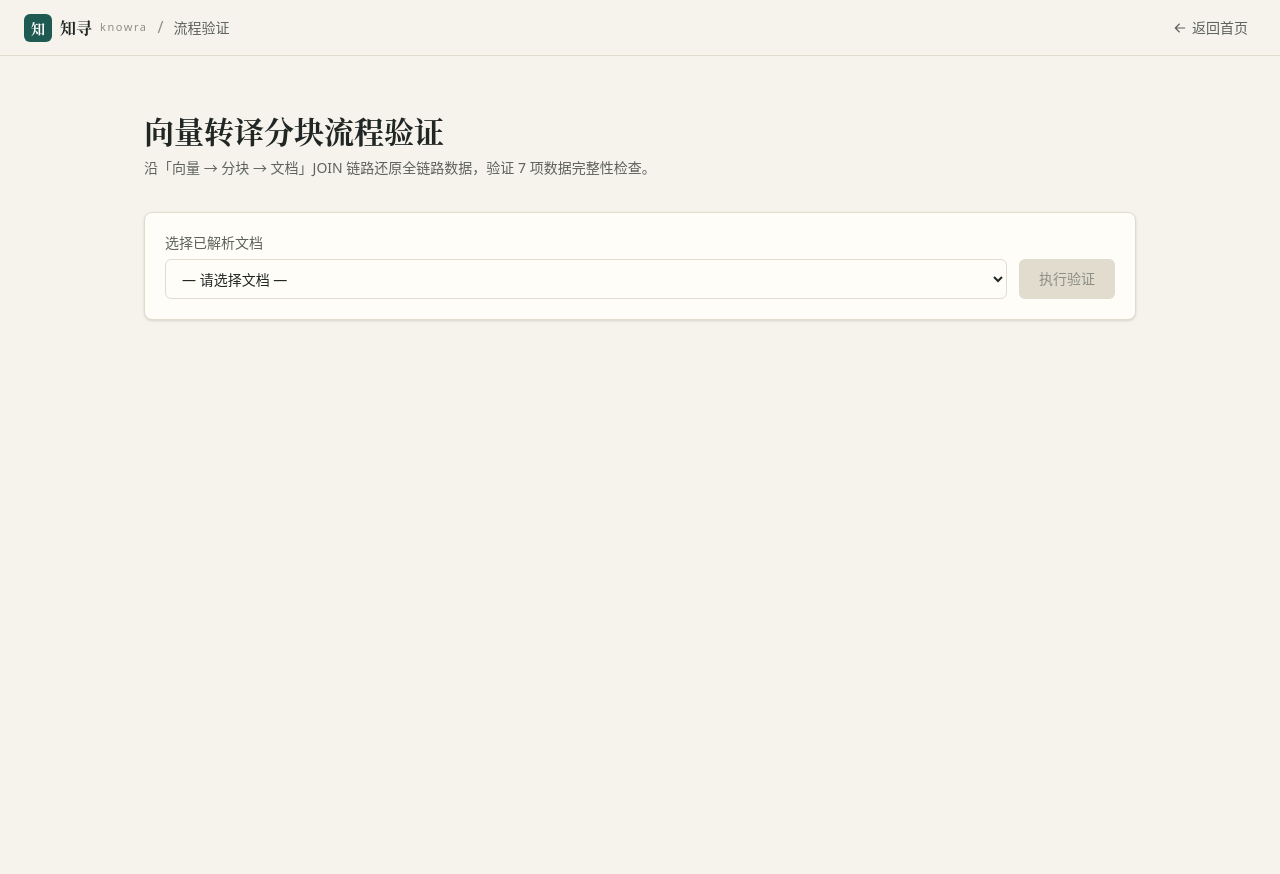
VerificationView › 成功响应渲染 › 验证成功后渲染验证摘要面板，显示 7 项检查
Step 1. Select "测试文档 1.pdf (5 段)" in the dropdown with test id "document-select" → (586, 279), box [165, 259, 1007, 299]
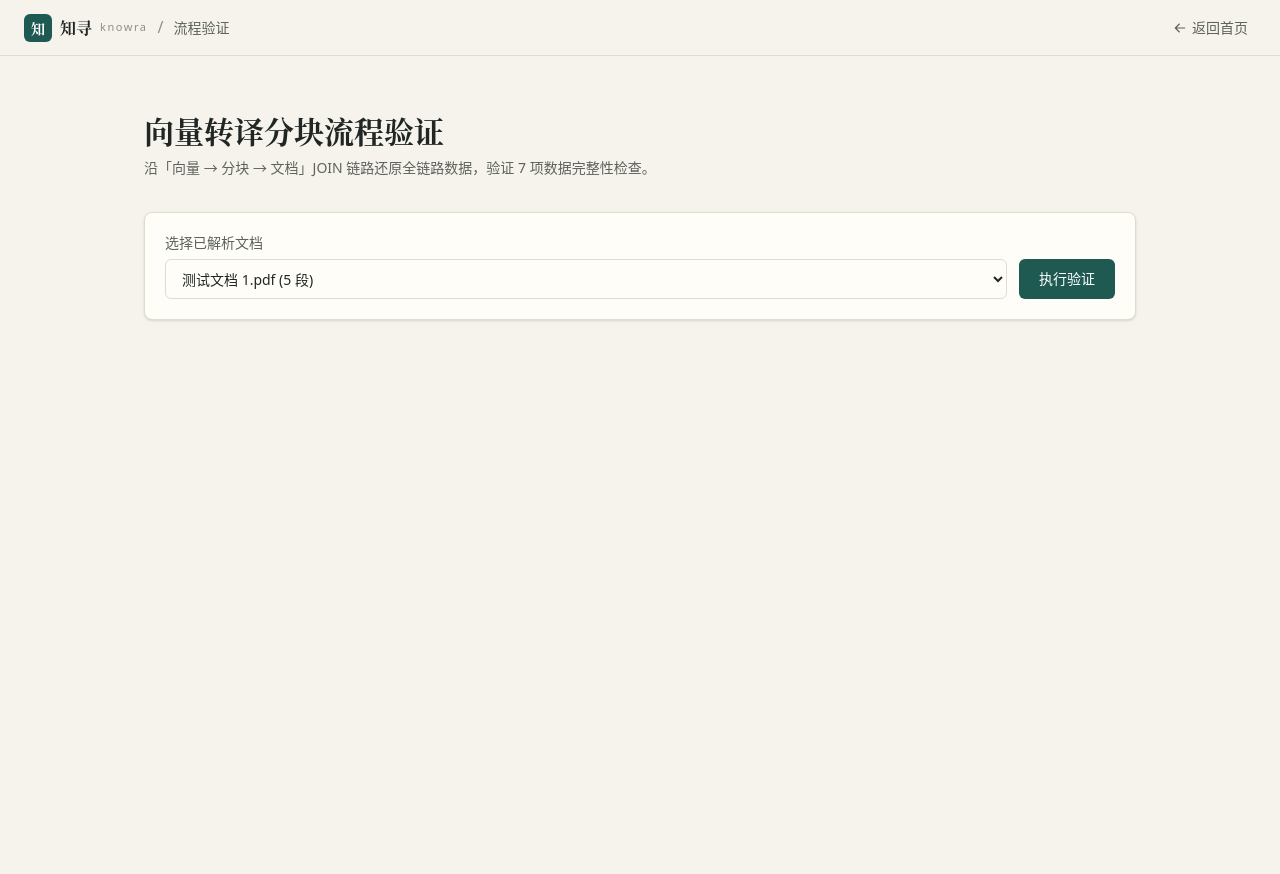
Step 2. Click the button with test id "verify-button" → (1067, 279), box [1019, 259, 1115, 299]
(page scrolled)
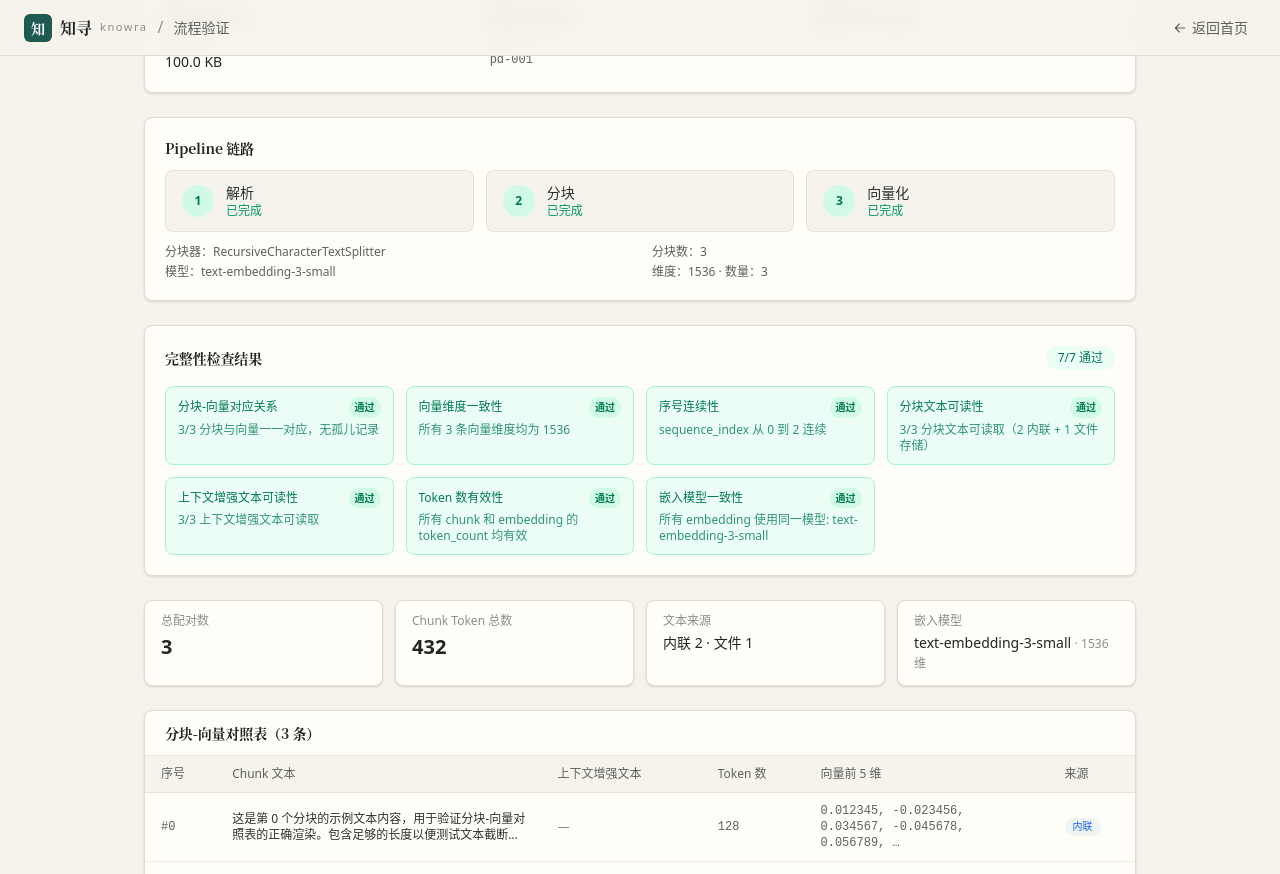
Result: the element with test id "verification-summary" is shown at [144, 325, 1136, 576]
Result: the element with test id "verification-summary" shows "7/7" at [1058, 349, 1103, 366]
Result: the element with test id "verification-summary" shows "通过" at [354, 400, 374, 414]
